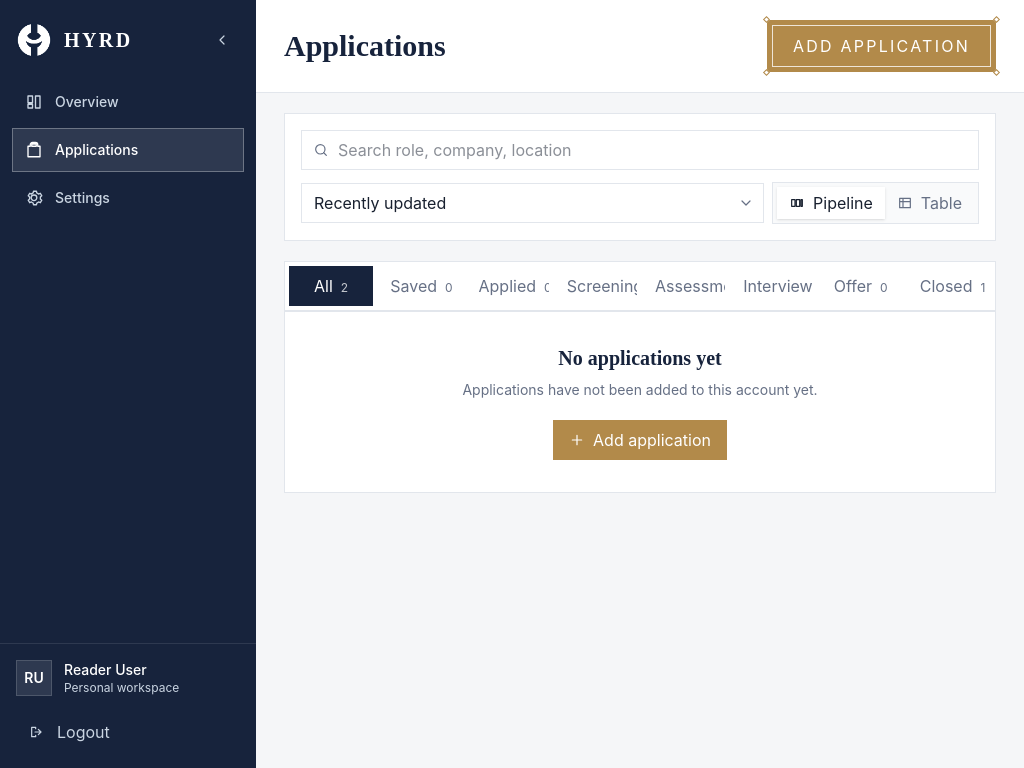
Test: application reads › shows empty filter state and clears filters
Type "none" into the field with placeholder "Search role, company, location" at (640, 150), box left=301, top=130, right=979, bottom=170
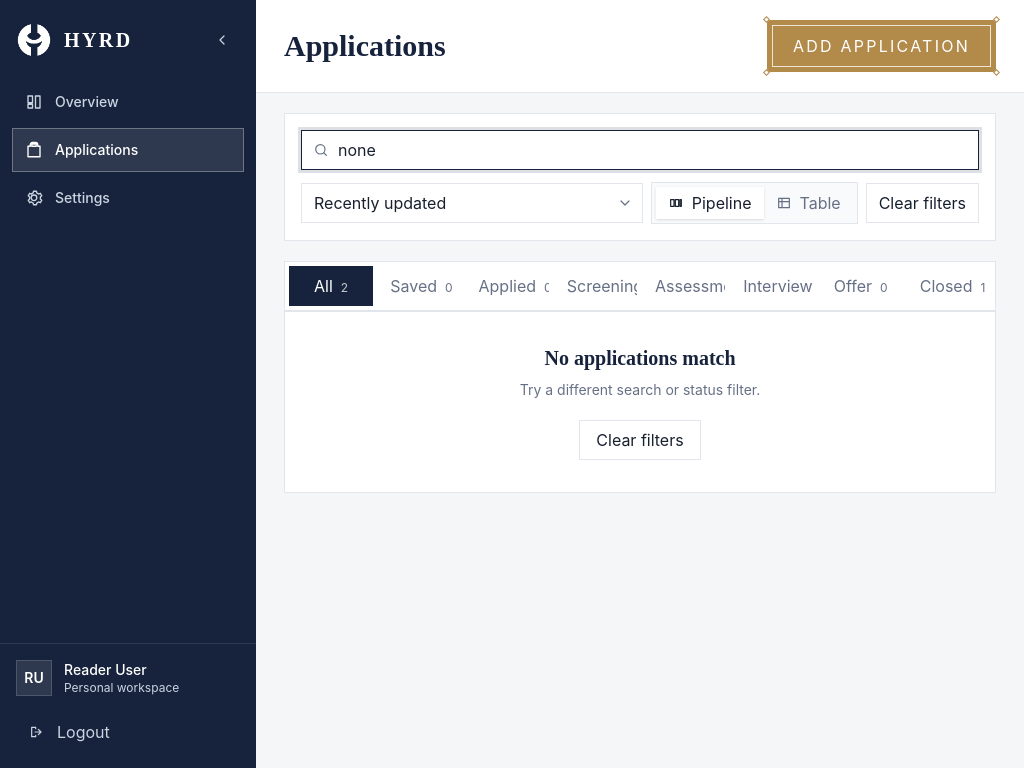
Result: the text "No applications match" is shown at left=544, top=347, right=736, bottom=369
Click the button "Clear filters" below "Try a different search or status filter." at (640, 440), box left=579, top=420, right=701, bottom=460
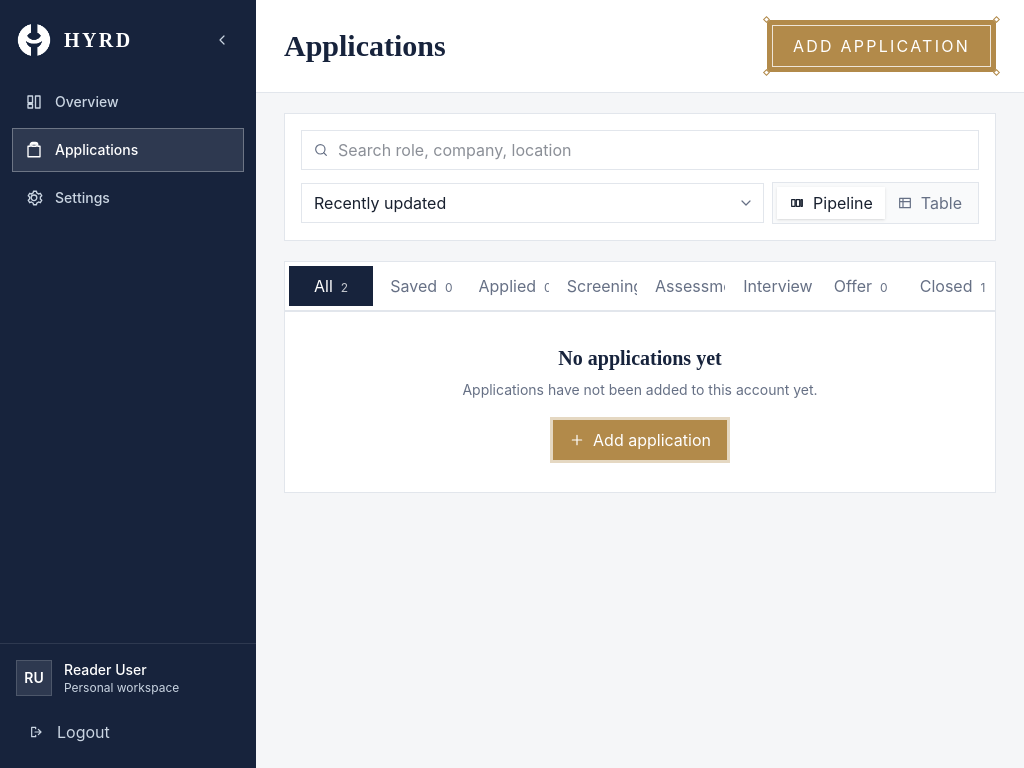
Result: the field with placeholder "Search role, company, location" is empty at left=301, top=130, right=979, bottom=170
